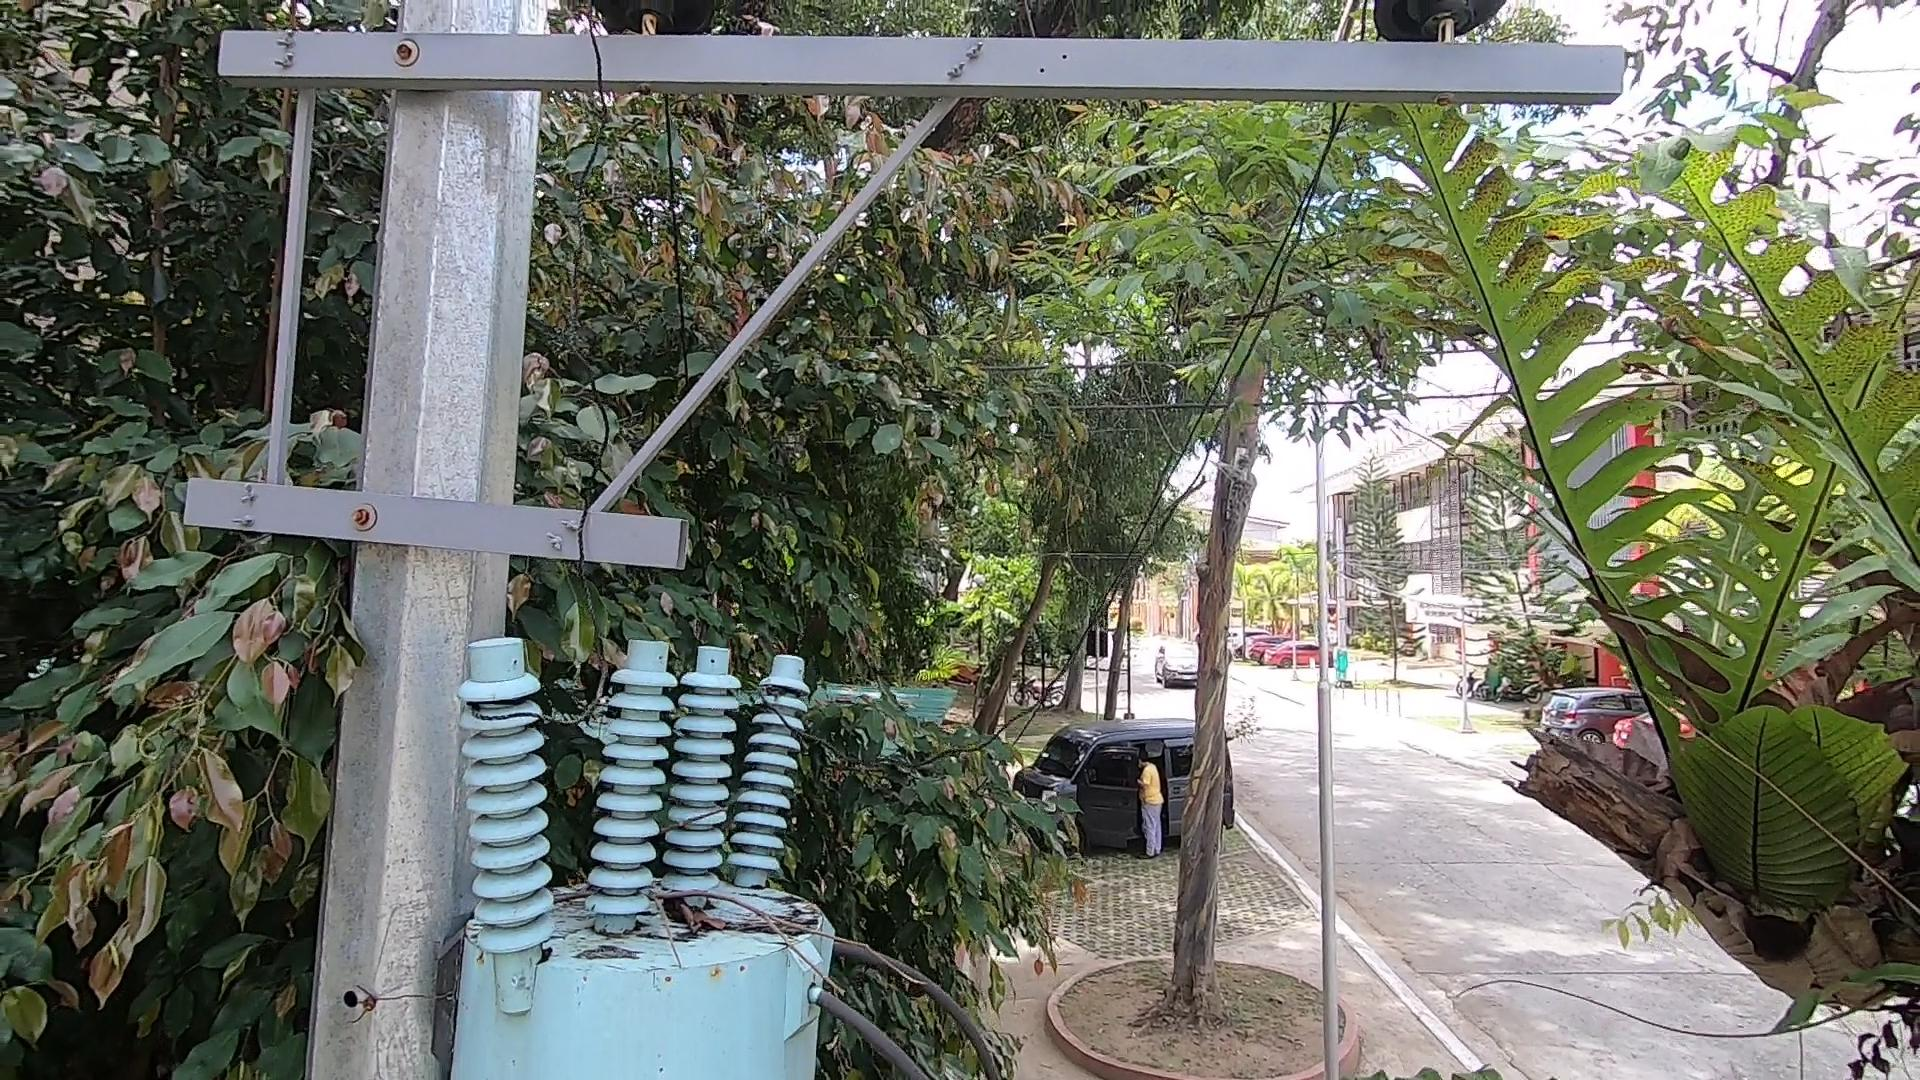leaf: (654, 893, 746, 952)
tree branch: (554, 847, 935, 1015)
